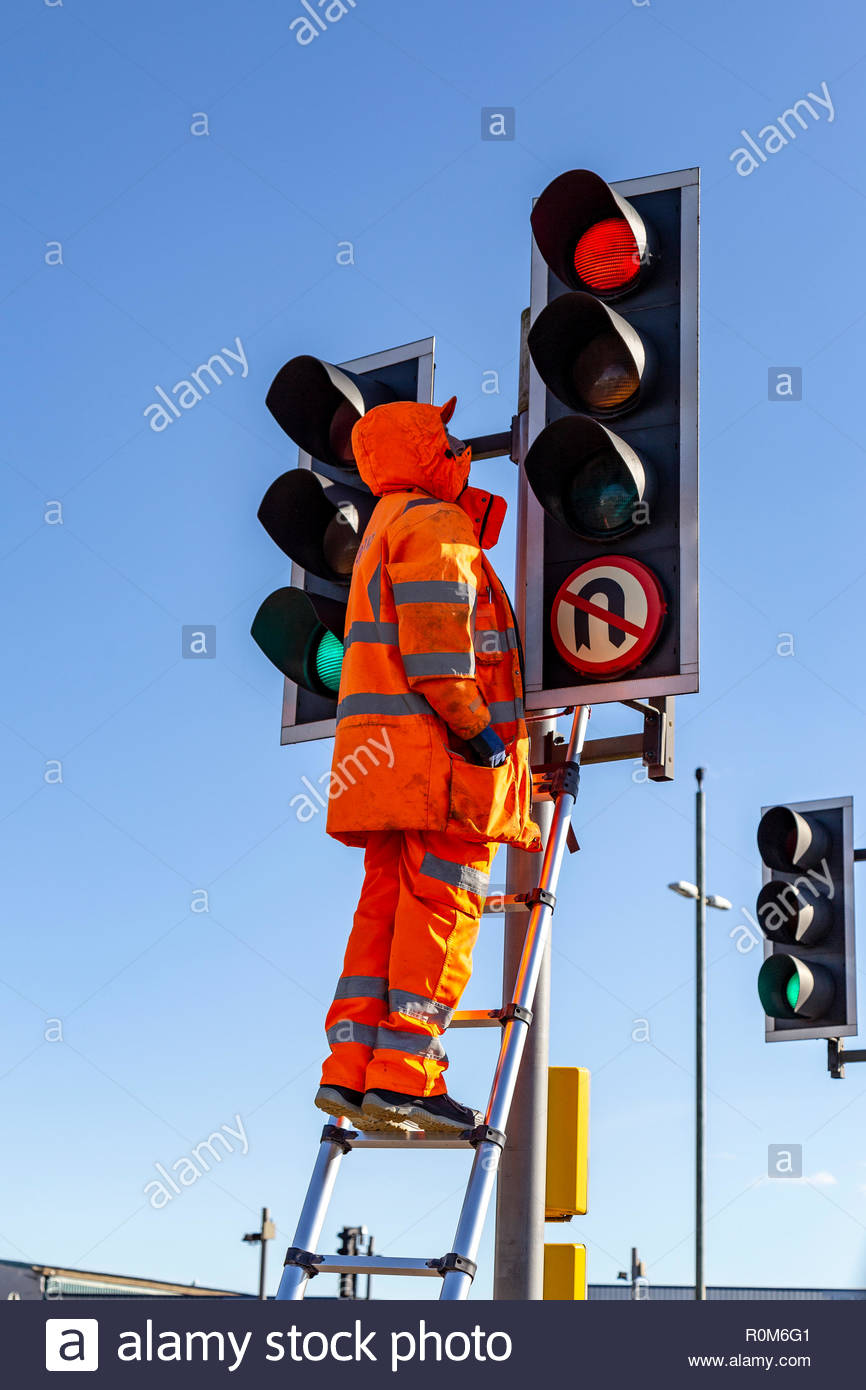trafficLight: (504, 164, 712, 724), (246, 332, 445, 753)
